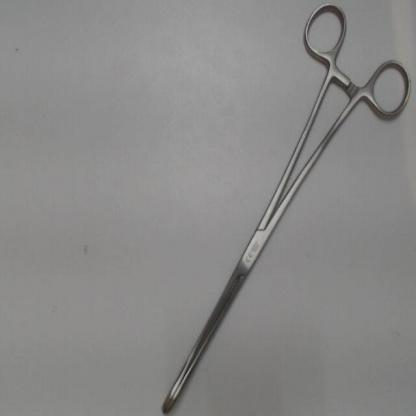Sponge Forceps: (155, 1, 415, 415)
